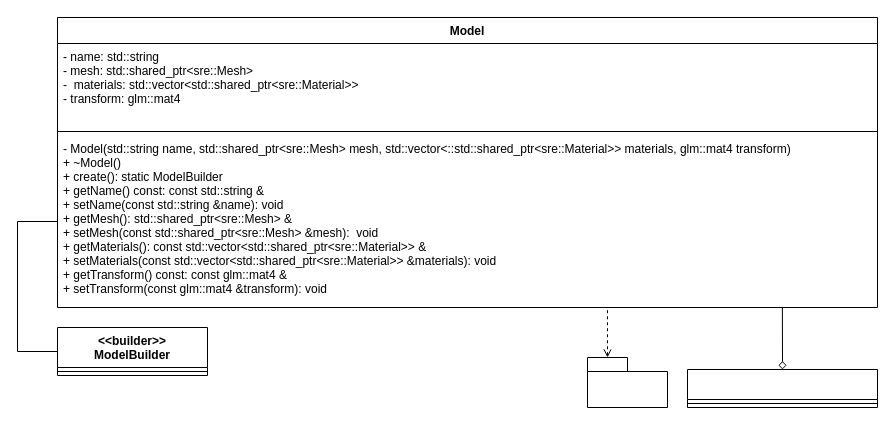
Image size: 895x425. Some labels were removed from this diagram. The box of each missing label's shape, as (x1, y1, x2, y2) in pixels:
ModelRendererComponent: (686, 368, 878, 408)
SRE: (586, 356, 668, 408)
